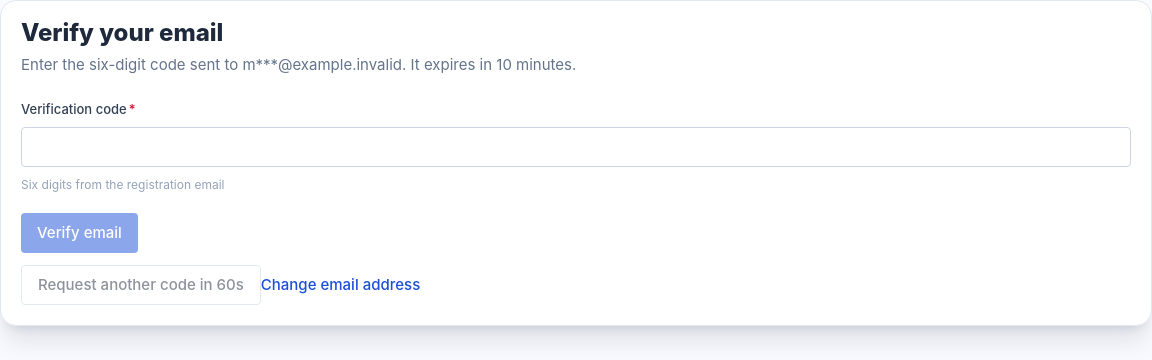
Test: registration email verification › shows an accurate success state after OTP verification
Type "123456" into the field labelled "Verification code*" at (576, 147), box x1=21 y1=127 x2=1131 y2=167
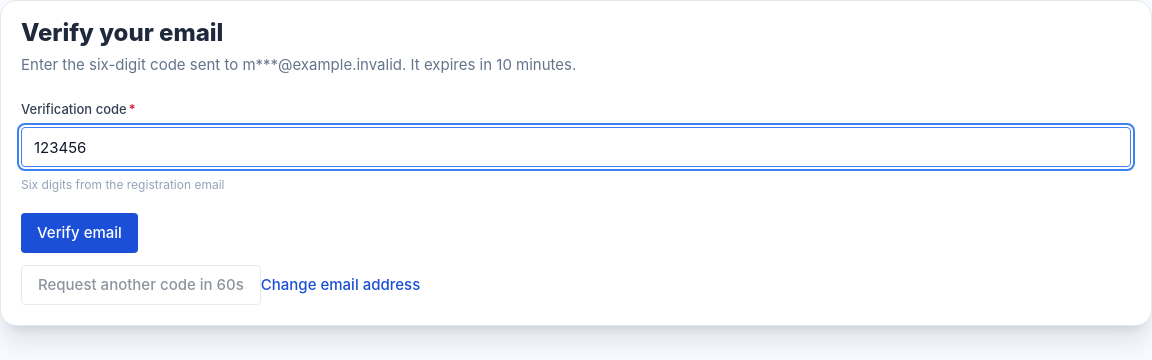
Click the button "Verify email" at (79, 233), box x1=21 y1=213 x2=138 y2=253
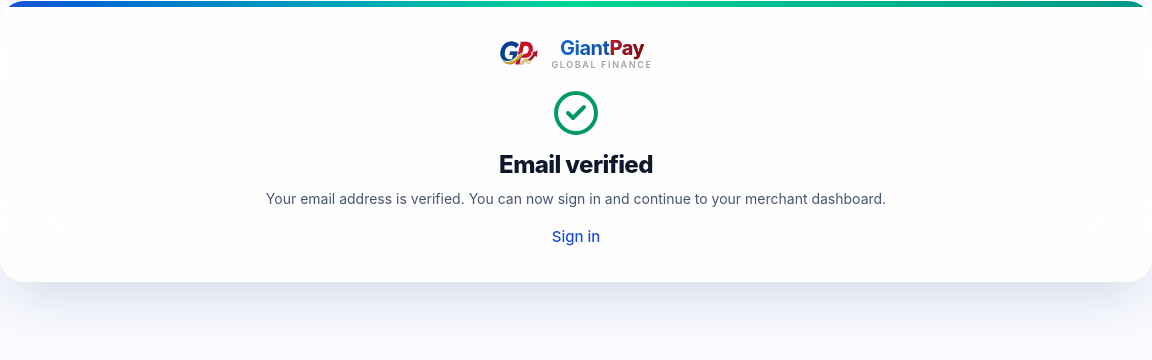
Now the heading "Email verified" is shown, box x1=499 y1=150 x2=653 y2=179
